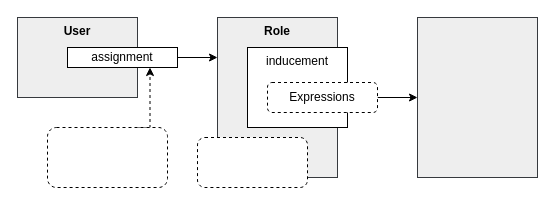
Some shapes in this 555 by 205 pixel diagram are drawn without their labels. Each missing label, with the centre of its shape:
Autoassignment expression: the point at 252,162
Object template mappings: the point at 107,157
Permission Application role Account Entitlement: the point at 477,97
